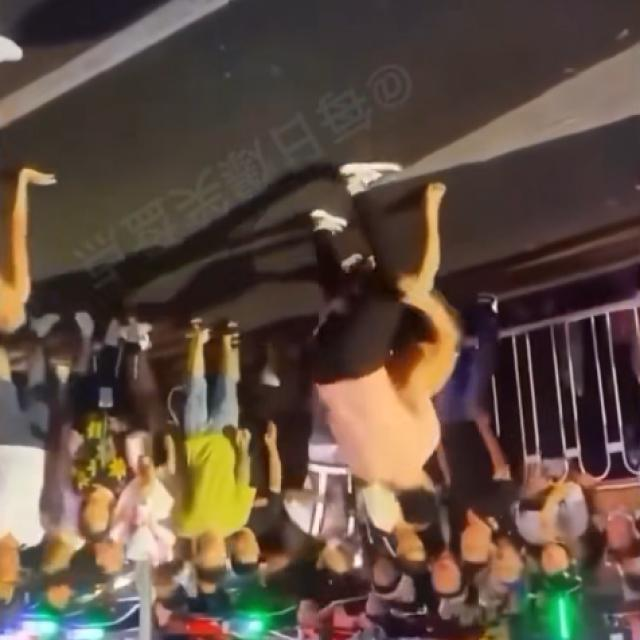fight: (300, 157, 471, 524)
nofight: (175, 316, 258, 581), (446, 329, 519, 571), (82, 300, 138, 536)
